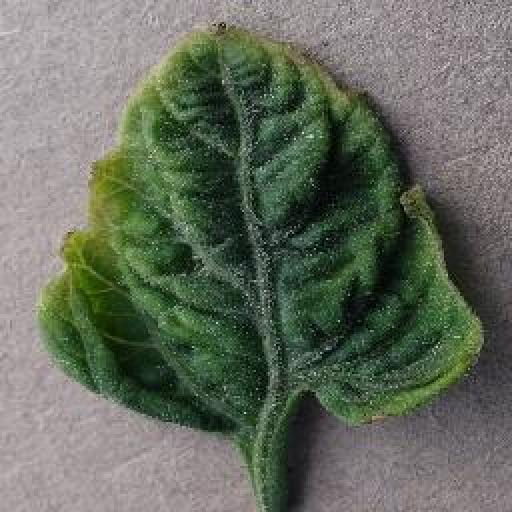Yellow Leaf Curl Virus: (37, 21, 484, 435)
